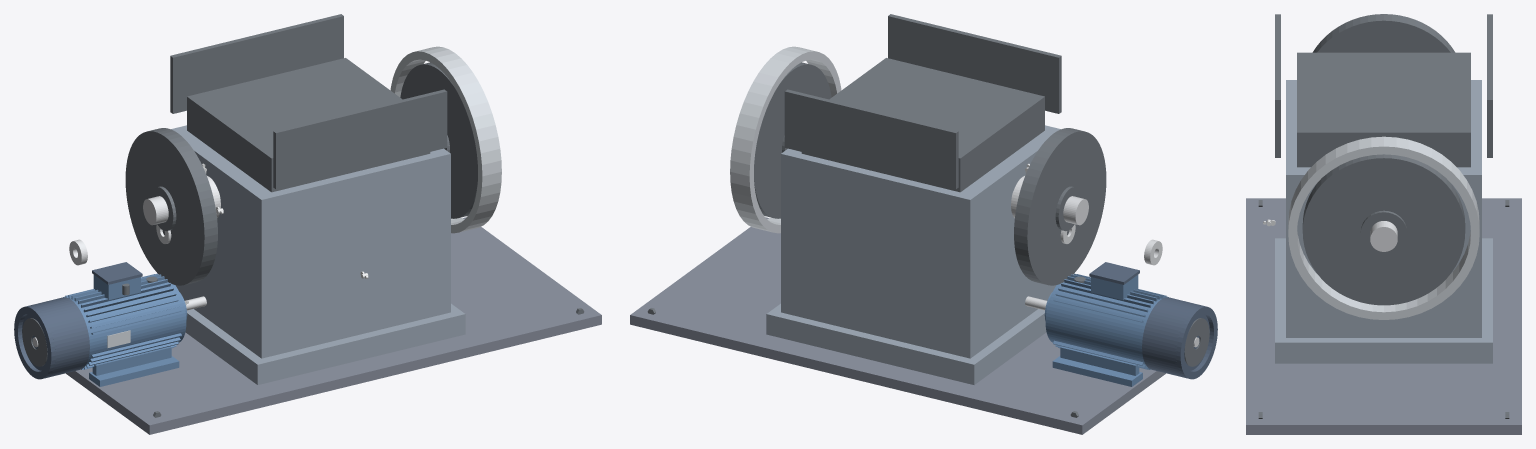
Rendered from crusher.glb.
3 views of the same model, side by side, from view 1: azimuth 30°, elevation 25°; view 2: azimuth 150°, elevation 25°; view 3: azimuth 270°, elevation 25° (orthographic). The views are drawn at different scales.
Visible parts, largest first — view 1: CASING_FRAME_006, PART_001, CASING_FEEDHOPPER_008, CASING_FEEDHOPPER_010, PART_015, CASING_FEEDHOPPER_009, CASING_FRAME_007, CASING_FLYGUARD_019, PART_017, CASING_MOTORBODY_020, CASING_FINS_023, CASING_COWL_024 (+7 smaller); view 2: CASING_FRAME_006, PART_001, CASING_FEEDHOPPER_008, CASING_FEEDHOPPER_009, PART_015, CASING_FEEDHOPPER_010, CASING_FRAME_007, CASING_FLYGUARD_019, CASING_MOTORBODY_020, PART_017, CASING_COWL_024, CASING_FINS_023 (+7 smaller); view 3: PART_001, PART_017, CASING_FEEDHOPPER_008, CASING_FRAME_006, CASING_FLYGUARD_019, CASING_FRAME_007, PART_015, PART_018, CASING_FEEDHOPPER_009, CASING_FEEDHOPPER_010, PART_013.
Boxes of the visible parts, left/top/right/bottom form: CASING_FRAME_006: left=171, top=125, right=450, bottom=358; PART_001: left=66, top=217, right=601, bottom=434; CASING_FEEDHOPPER_008: left=187, top=58, right=430, bottom=192; CASING_FEEDHOPPER_010: left=273, top=89, right=447, bottom=189; PART_015: left=125, top=128, right=217, bottom=285; CASING_FEEDHOPPER_009: left=170, top=14, right=343, bottom=113; CASING_FRAME_007: left=185, top=303, right=465, bottom=384; CASING_FLYGUARD_019: left=390, top=46, right=501, bottom=233; PART_017: left=400, top=62, right=477, bottom=218; CASING_MOTORBODY_020: left=70, top=282, right=185, bottom=365; CASING_FINS_023: left=63, top=273, right=182, bottom=369; CASING_COWL_024: left=22, top=297, right=89, bottom=377; CASING_FRAME_006: left=781, top=125, right=1060, bottom=358; PART_001: left=630, top=217, right=1165, bottom=434; CASING_FEEDHOPPER_008: left=801, top=58, right=1044, bottom=192; CASING_FEEDHOPPER_009: left=784, top=89, right=958, bottom=189; PART_015: left=1014, top=128, right=1106, bottom=285; CASING_FEEDHOPPER_010: left=888, top=14, right=1061, bottom=113; CASING_FRAME_007: left=766, top=303, right=1046, bottom=384; CASING_FLYGUARD_019: left=730, top=46, right=841, bottom=233; CASING_MOTORBODY_020: left=1046, top=283, right=1161, bottom=365; PART_017: left=754, top=62, right=831, bottom=218; CASING_COWL_024: left=1142, top=297, right=1209, bottom=377; CASING_FINS_023: left=1053, top=273, right=1168, bottom=369; PART_001: left=1246, top=198, right=1521, bottom=434; PART_017: left=1302, top=154, right=1465, bottom=305; CASING_FEEDHOPPER_008: left=1297, top=52, right=1470, bottom=167; CASING_FRAME_006: left=1286, top=80, right=1481, bottom=337; CASING_FLYGUARD_019: left=1288, top=136, right=1479, bottom=319; CASING_FRAME_007: left=1275, top=238, right=1492, bottom=363; PART_015: left=1312, top=14, right=1455, bottom=52; PART_018: left=1360, top=210, right=1407, bottom=254; CASING_FEEDHOPPER_009: left=1487, top=14, right=1492, bottom=157; CASING_FEEDHOPPER_010: left=1275, top=14, right=1280, bottom=157; PART_013: left=1370, top=221, right=1397, bottom=251.
Bounding box in the file's own units: 4.11 × 2.01 × 1.9.
